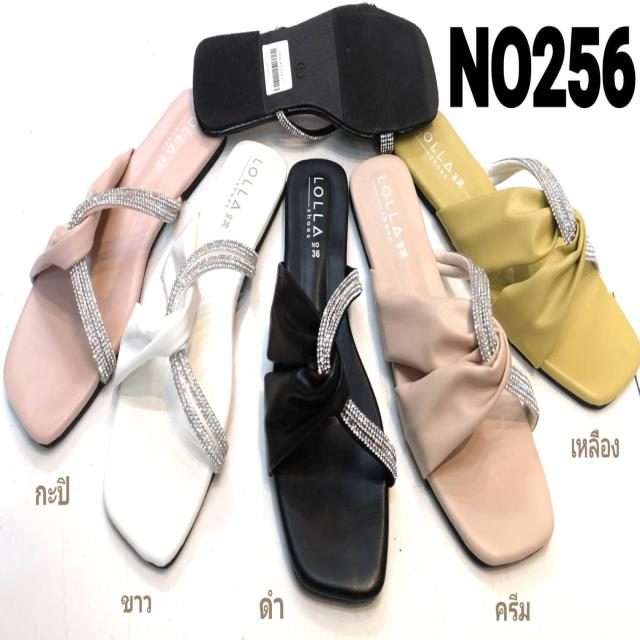black: (266, 157, 392, 603)
cream: (354, 147, 555, 577)
kapi: (0, 85, 233, 454)
white: (100, 136, 287, 564)
yellow: (394, 92, 640, 410)
